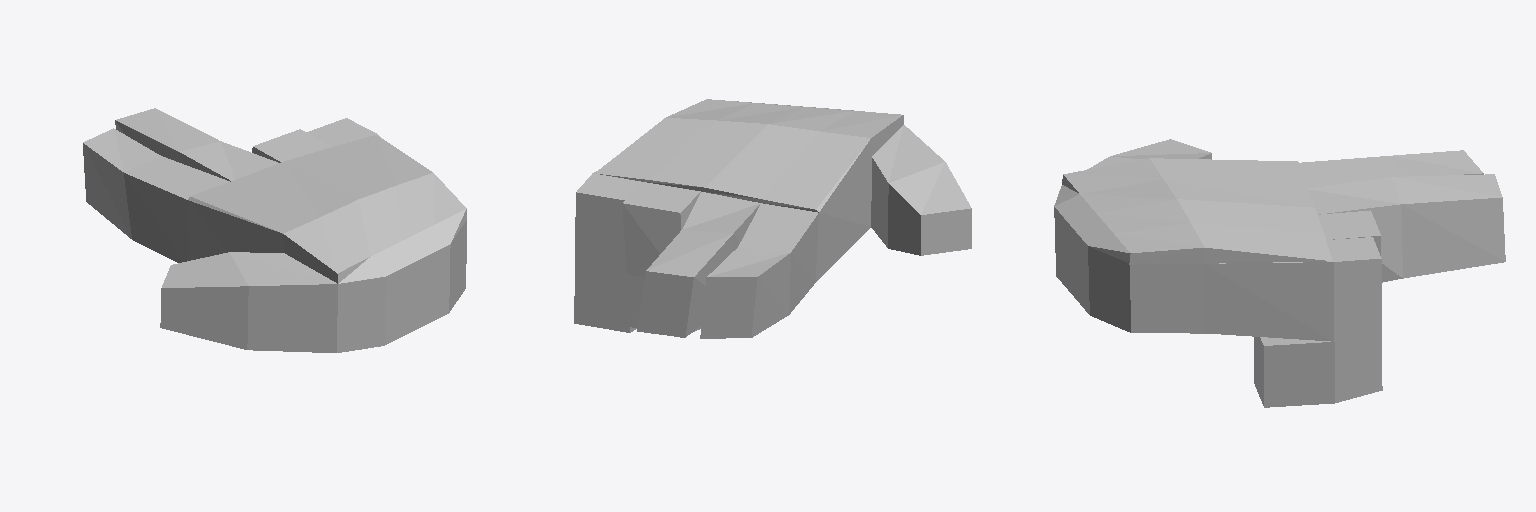
Rendered from wijshandje.obj.
The picture shows the model from 3 angles: view 1: azimuth 30°, elevation 25°; view 2: azimuth 150°, elevation 25°; view 3: azimuth 270°, elevation 25°; orthographic projection.
Visible parts, largest first — view 1: Cube_Cube.001; view 2: Cube_Cube.001; view 3: Cube_Cube.001.
Boxes of the visible parts, <box> form: Cube_Cube.001: <box>83,108,466,352</box>; Cube_Cube.001: <box>574,99,971,338</box>; Cube_Cube.001: <box>1054,139,1505,407</box>.
Size of the model in its own units: 2.34 by 1.22 by 3.06.